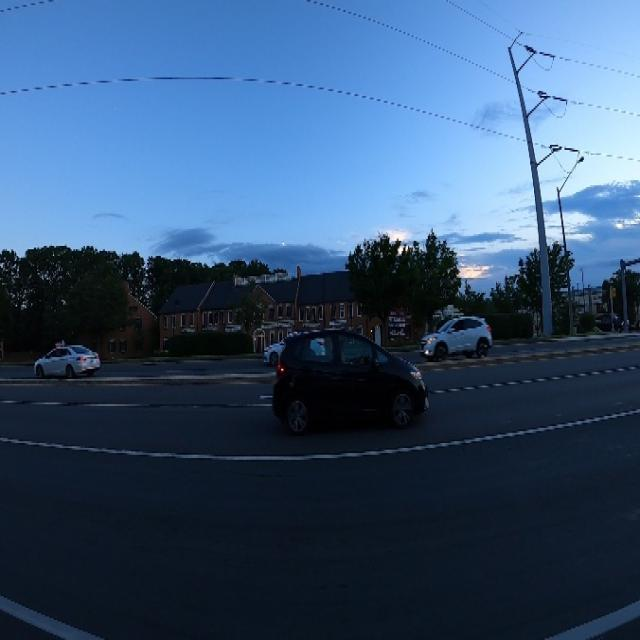car: (269, 327, 430, 448), (422, 305, 499, 365), (28, 337, 107, 384)
